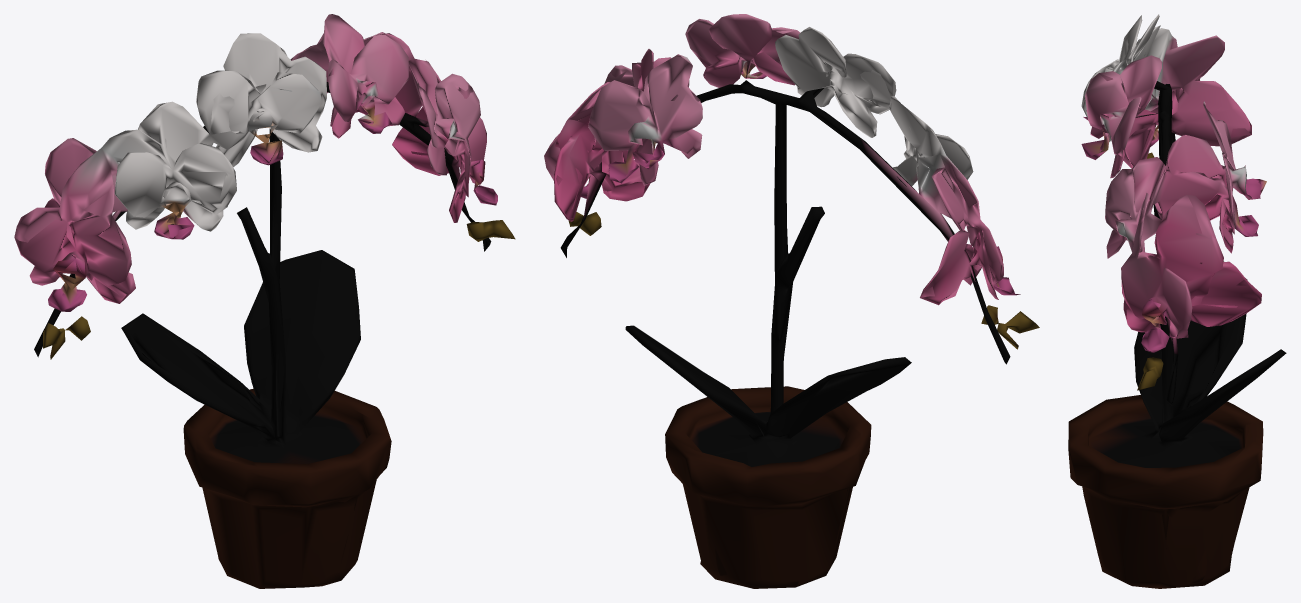
The model's file is gen3d-orchid-lod0.glb.
3 renders of one model, left to right at view 1: azimuth 30°, elevation 25°; view 2: azimuth 150°, elevation 25°; view 3: azimuth 270°, elevation 25°, orthographic. The views are drawn at different scales.
Parts seen in each view (by area): view 1: part_0; view 2: part_0; view 3: part_0.
Part boxes in pixels (x1,y1,x2,y2): part_0: (14, 14, 515, 588); part_0: (544, 14, 1039, 588); part_0: (1068, 14, 1286, 588).
Size of the model in its own units: 0.9076 by 0.9977 by 0.3759.
